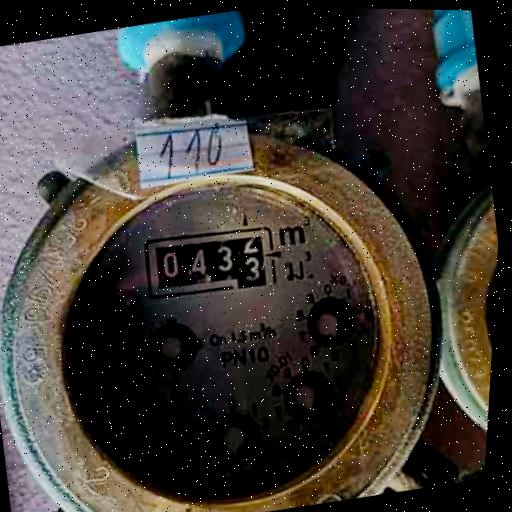0: (152, 242, 189, 289)
2: (229, 233, 271, 290)
3: (206, 235, 240, 281)
4: (177, 238, 217, 286)
border_water_meter_number: (137, 216, 281, 307)
